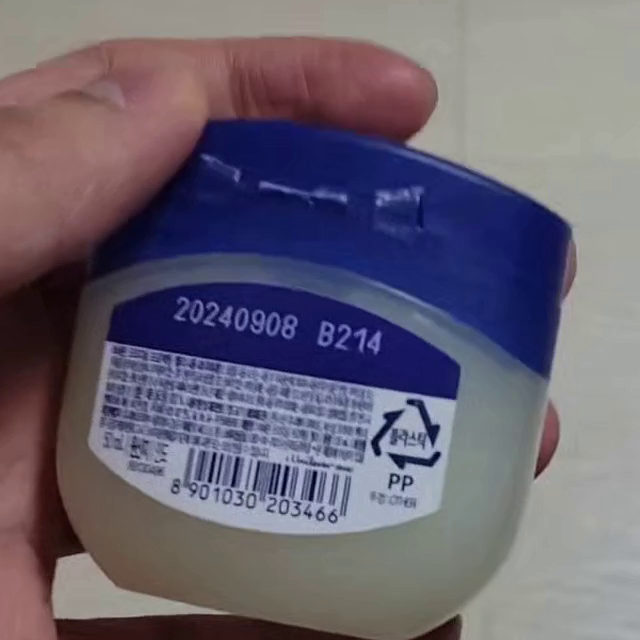Plastic: (370, 397, 441, 470)
